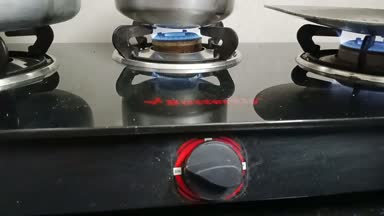flame_gas_on: (110, 20, 268, 202), (292, 17, 383, 87)
